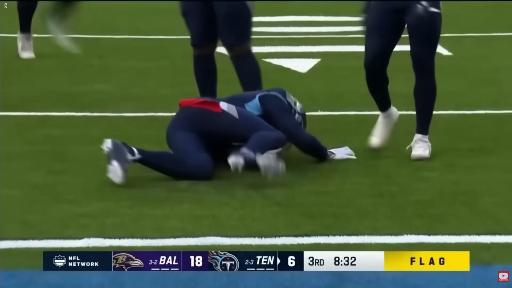Helmet: (287, 92, 306, 129)
Jersey: (220, 89, 327, 160)
Player: (102, 89, 355, 183), (364, 2, 441, 159), (180, 1, 262, 97), (17, 1, 38, 59)
